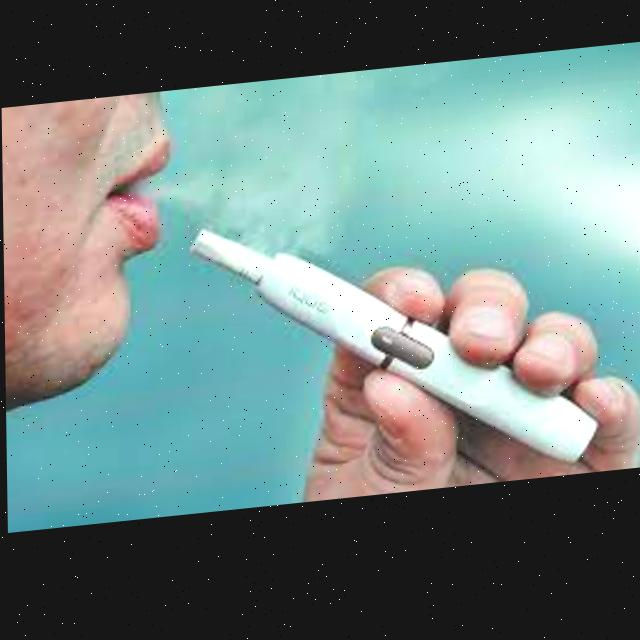vape: (192, 202, 597, 510)
